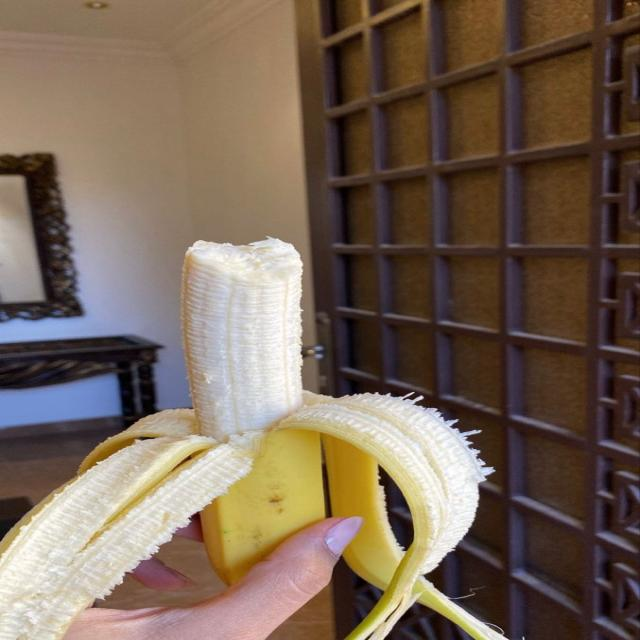banana: (0, 239, 497, 639)
